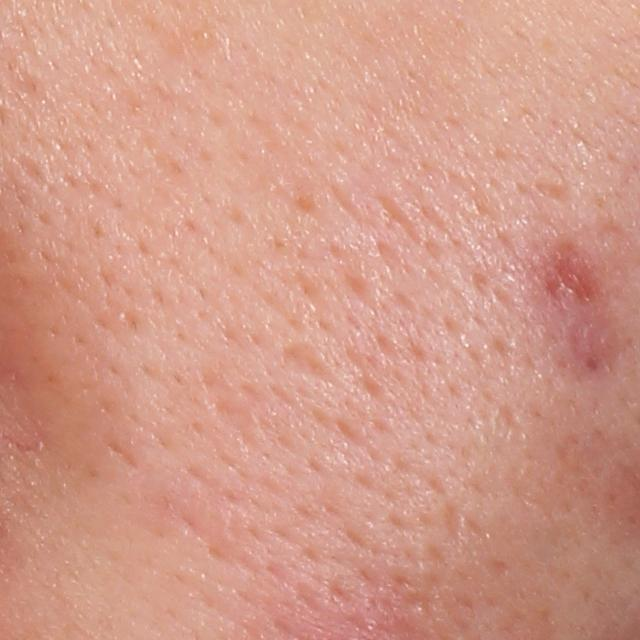atrophic_scar: (281, 345, 334, 386), (110, 439, 137, 470)
